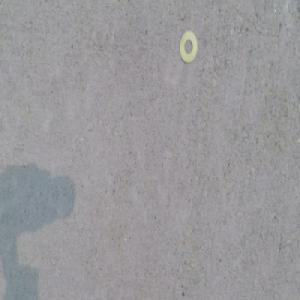Washer: (179, 29, 198, 60)
